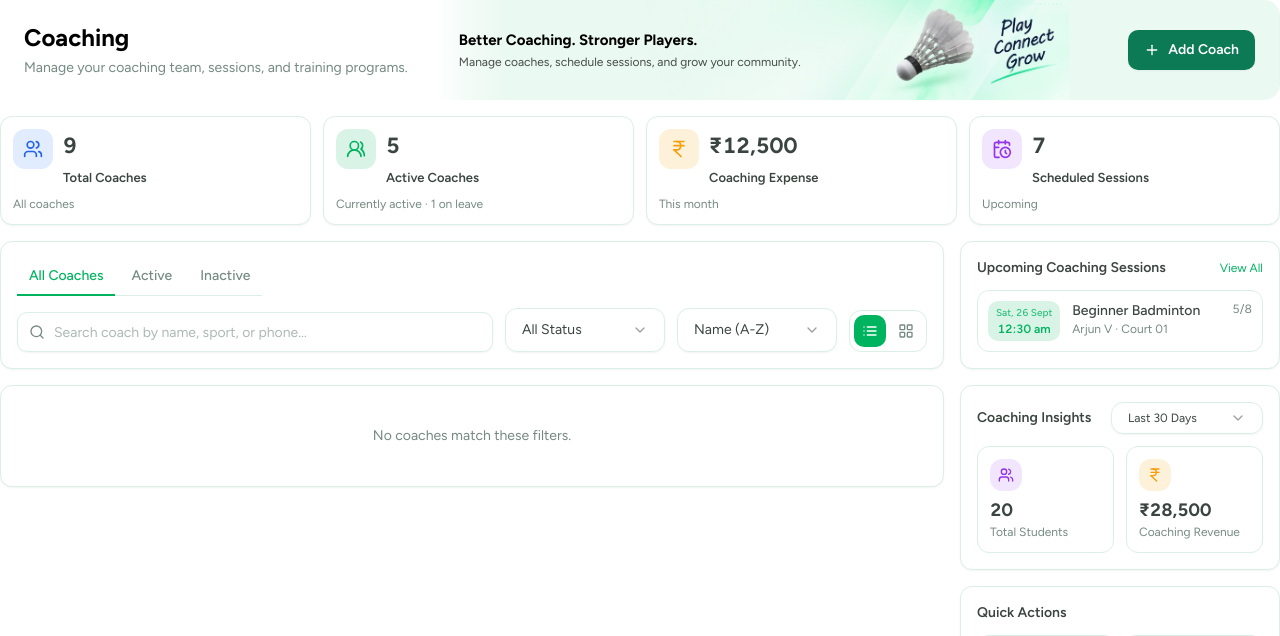
Scenario: CoachingOverviewPage › re-fetches and re-renders Coaching Insights when the Last N Days dropdown changes
Expected: the text "20" is shown, [990, 499, 1013, 521]
Step 1. Click the dropdown named "coaching insights time window" → (1187, 418), box [1111, 402, 1263, 434]
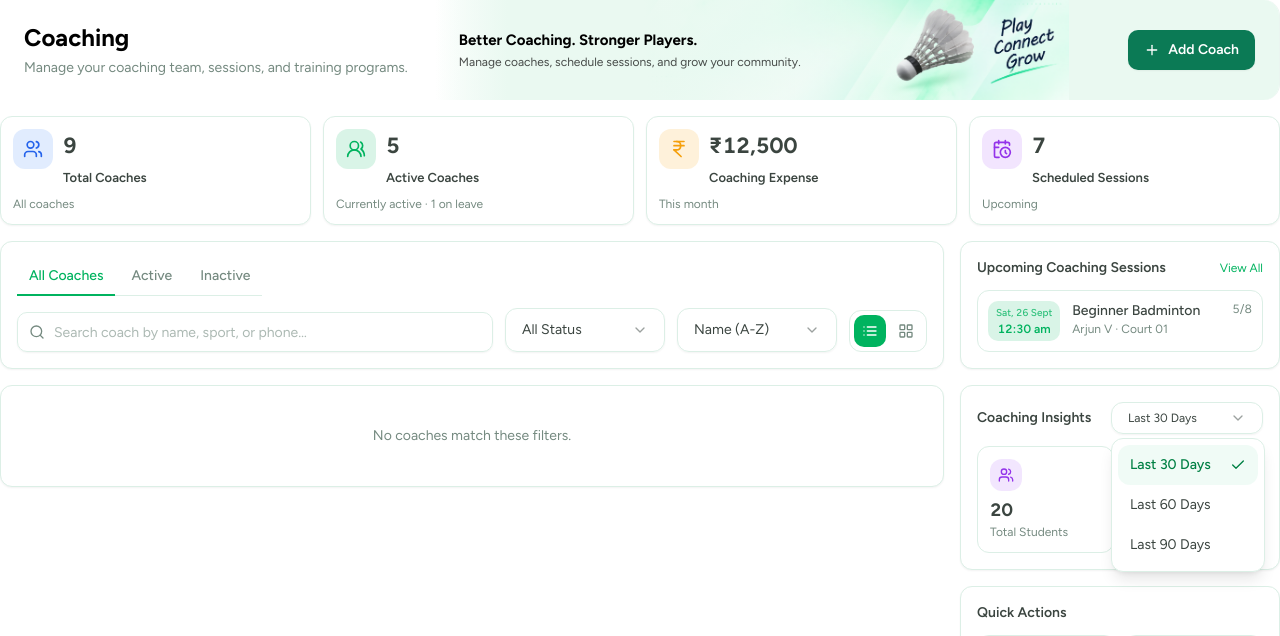
Step 2. Click the option "Last 60 Days" → (1170, 504), box [1130, 496, 1211, 513]
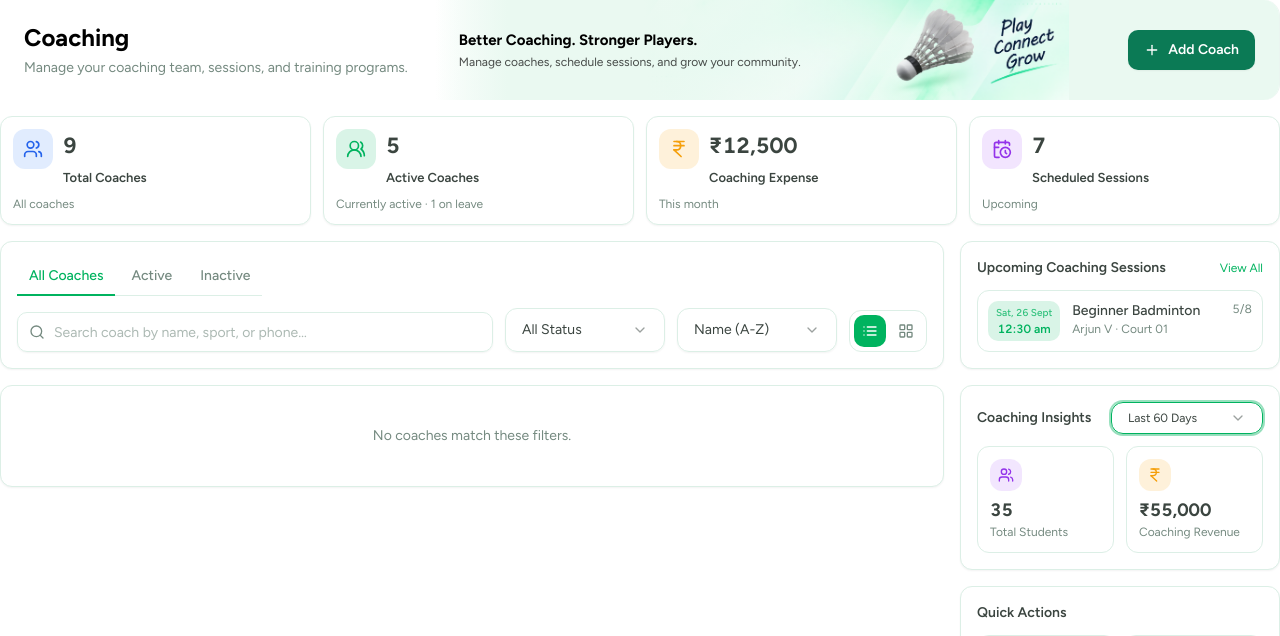
Result: the text "35" is shown at [990, 499, 1013, 521]
